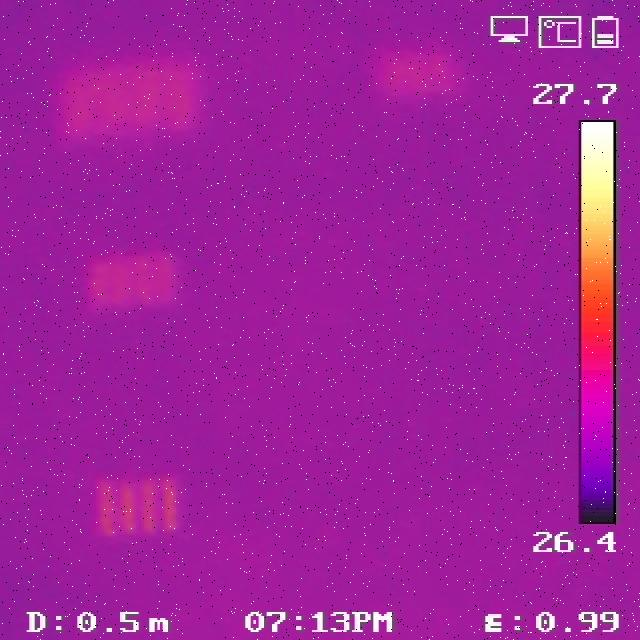Indistinguishable 4-bar target: (57, 55, 187, 128), (89, 253, 175, 302), (383, 42, 461, 96)
threshold 4-bar target: (94, 475, 182, 534)
